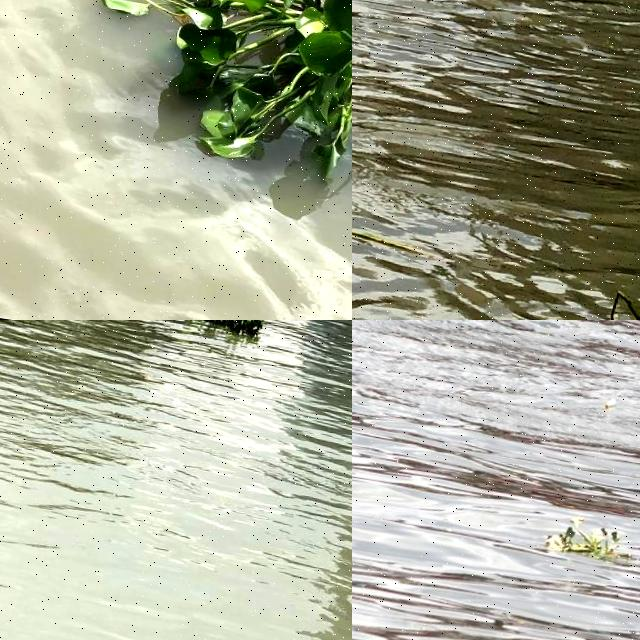water-hyacinth: (91, 1, 353, 168), (548, 512, 630, 561), (186, 321, 275, 347)
